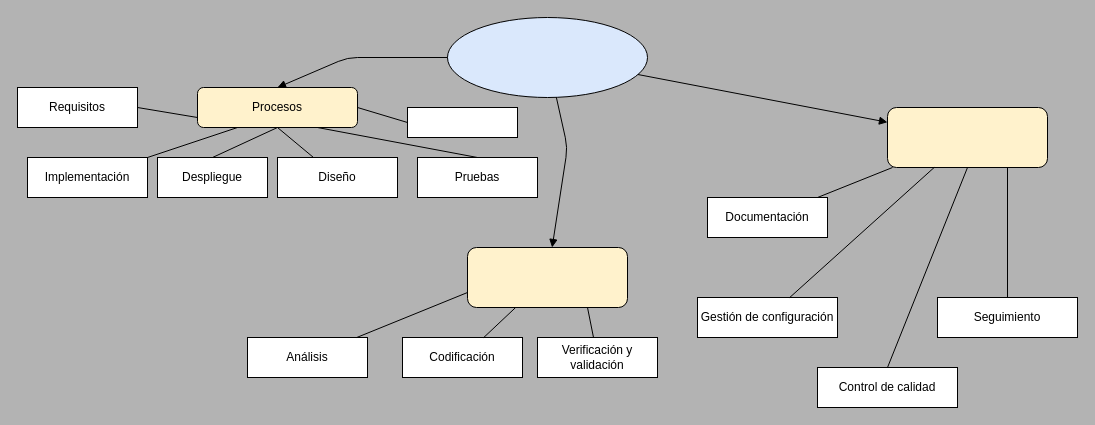
Some shapes in this 1095 by 425 pixel diagram are drawn without their labels. The box of each missing label's shape, as (x1, y1, x2, y2) in pixels:
Actividades: (466, 246, 628, 308)
Ciclo de Vida del Software: (446, 16, 648, 98)
Mantenimiento: (406, 106, 518, 138)
Tareas: (886, 106, 1048, 168)
